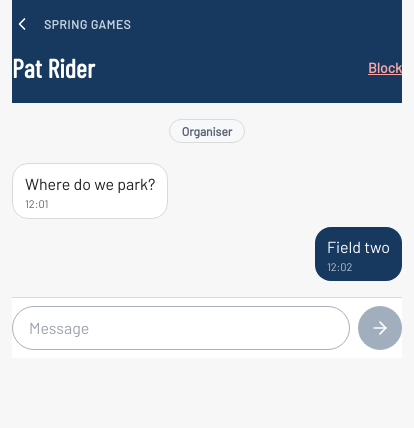
it: MessageThreadPage › sends a private reply
Check: the button named "Send" is disabled, box [358,306,402,350]
Step 1. Type "Sent!" into the field labelled "Message" → x=181, y=328, box [12,306,350,350]
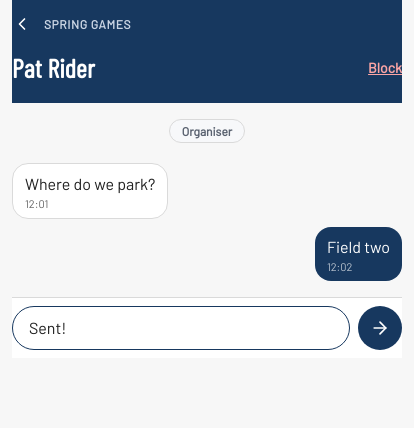
Step 2. Click the button named "Send" → x=380, y=328, box [358,306,402,350]
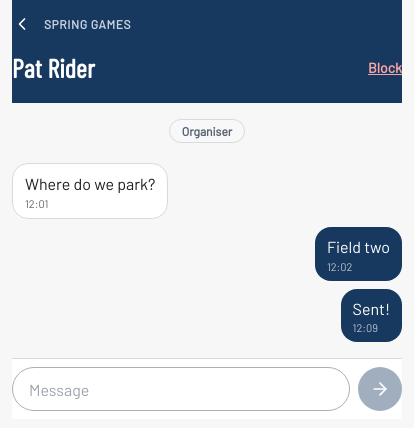
Check: the text "Sent!" is shown, box [353,299,390,318]
Check: the field labelled "Message" is empty, box [12,367,350,411]
